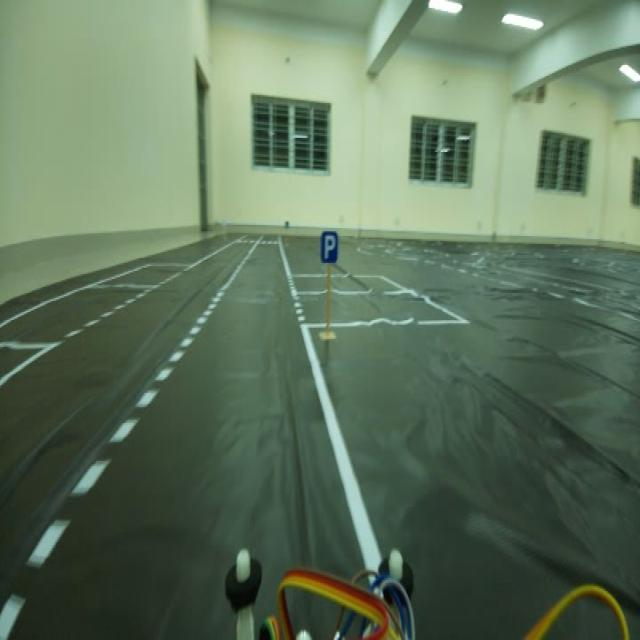parking: (318, 225, 343, 271)
